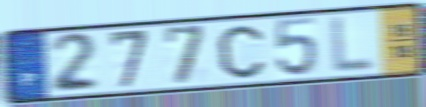2: (47, 31, 102, 97)
5: (273, 14, 320, 80)
7: (161, 24, 208, 88), (107, 28, 151, 91)
C: (215, 23, 267, 81)
L: (330, 14, 377, 76)
